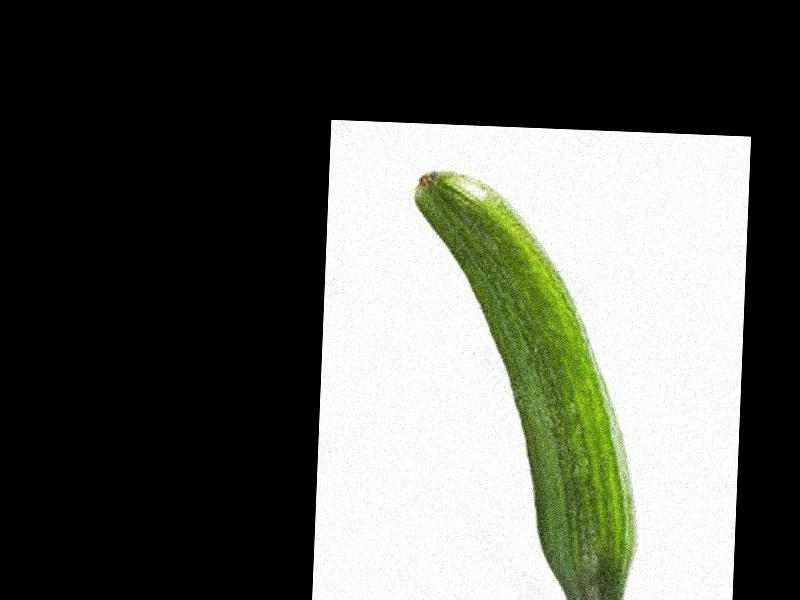Cucumber: (395, 170, 650, 600)
